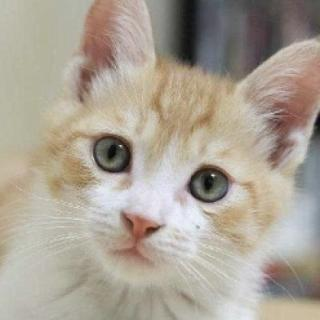cat: (29, 2, 320, 290)
nose: (118, 196, 168, 243)
